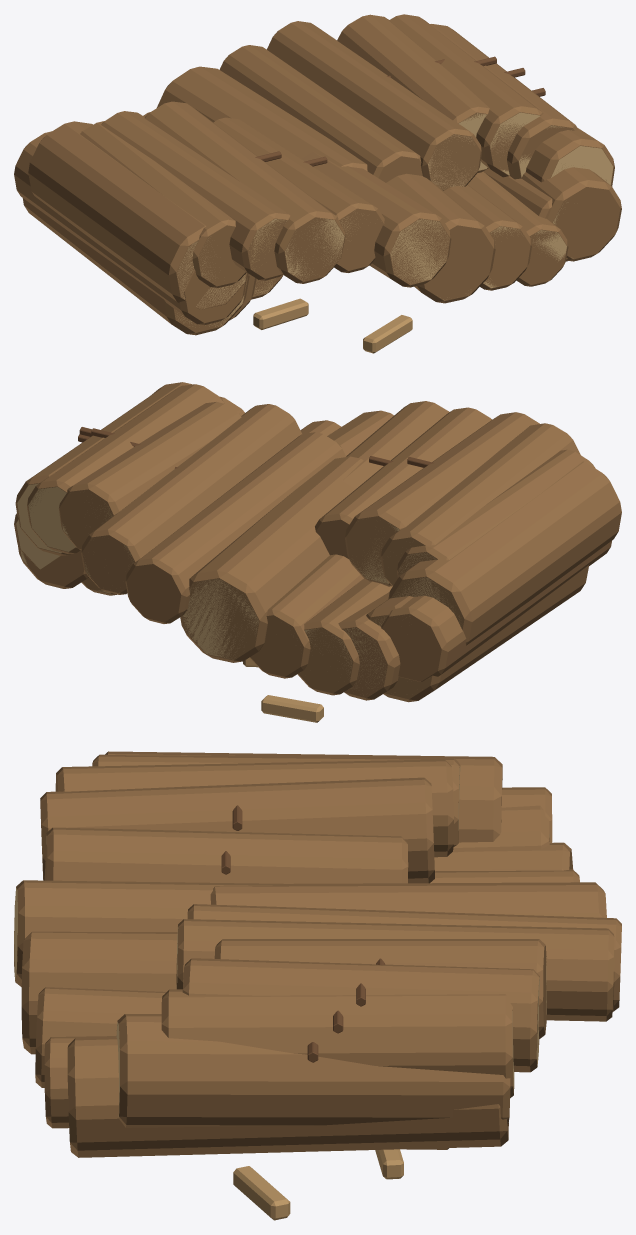
The model's file is runtime.glb.
The picture shows the model from 3 angles, top to bottom: view 1: azimuth 30°, elevation 25°; view 2: azimuth 150°, elevation 25°; view 3: azimuth 270°, elevation 25°; orthographic projection. The views are drawn at different scales.
Visible parts, largest first — view 1: falkenwacht-woodpile-v08_nocol; view 2: falkenwacht-woodpile-v08_nocol; view 3: falkenwacht-woodpile-v08_nocol.
Boxes of the visible parts, x1=… form: falkenwacht-woodpile-v08_nocol: x1=14, y1=14, x2=621, y2=353; falkenwacht-woodpile-v08_nocol: x1=14, y1=382, x2=621, y2=722; falkenwacht-woodpile-v08_nocol: x1=14, y1=751, x2=621, y2=1220.
Size of the model in its own units: 1.7 by 0.8363 by 1.46.
